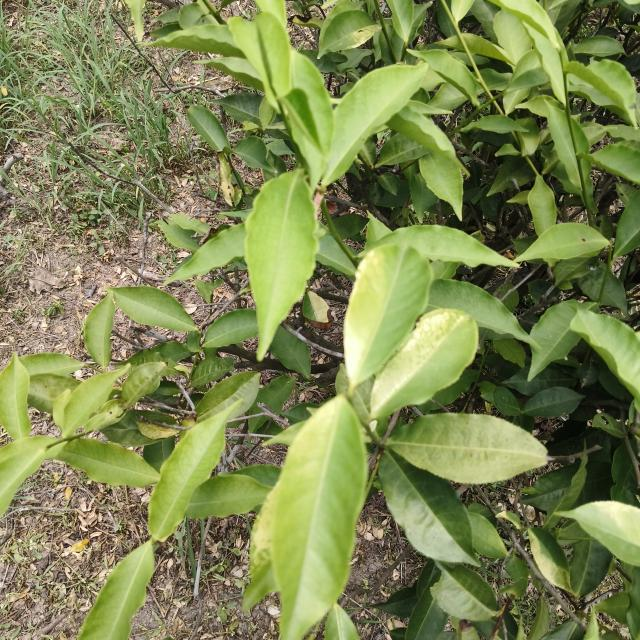Leaf: (270, 396, 367, 640), (244, 169, 318, 360), (344, 244, 432, 391), (322, 64, 426, 186), (148, 401, 239, 540), (379, 440, 479, 566), (370, 309, 478, 418), (387, 413, 547, 484), (78, 541, 154, 640), (570, 308, 640, 410), (282, 51, 334, 183), (427, 279, 532, 343), (228, 12, 295, 110), (373, 225, 517, 267), (560, 501, 640, 566), (542, 96, 592, 199), (56, 438, 159, 487), (0, 436, 62, 516), (165, 223, 246, 284), (564, 60, 636, 126), (527, 300, 584, 381), (53, 371, 121, 436), (107, 286, 196, 331), (517, 223, 608, 266), (186, 472, 271, 518), (431, 562, 497, 621), (410, 50, 480, 105), (387, 103, 455, 159), (490, 0, 562, 50), (544, 449, 588, 530), (525, 25, 566, 107), (149, 24, 245, 58), (196, 372, 260, 420), (419, 151, 463, 219), (319, 10, 381, 56), (523, 461, 580, 511), (100, 409, 177, 446), (576, 262, 626, 316), (0, 353, 31, 440), (529, 528, 570, 590), (438, 33, 515, 66), (569, 540, 613, 597), (83, 293, 116, 368), (202, 308, 258, 348), (404, 590, 448, 640), (187, 105, 231, 153), (590, 142, 640, 184), (28, 373, 80, 413), (271, 326, 310, 377), (122, 362, 166, 407), (494, 10, 532, 62), (522, 387, 585, 417), (611, 441, 640, 506), (468, 511, 508, 558), (248, 376, 296, 414), (613, 191, 640, 258), (528, 175, 556, 236), (213, 92, 263, 126), (376, 134, 427, 167), (127, 341, 191, 366), (371, 584, 418, 618), (19, 353, 84, 376), (410, 173, 438, 223), (385, 0, 414, 45), (191, 356, 234, 386), (232, 136, 271, 169), (499, 556, 529, 598), (460, 115, 525, 134), (325, 604, 359, 640), (159, 222, 198, 252), (572, 36, 624, 58), (528, 595, 549, 640), (493, 339, 525, 368), (491, 386, 521, 416), (169, 214, 211, 233), (178, 3, 207, 29), (378, 172, 399, 195), (248, 416, 269, 432)
